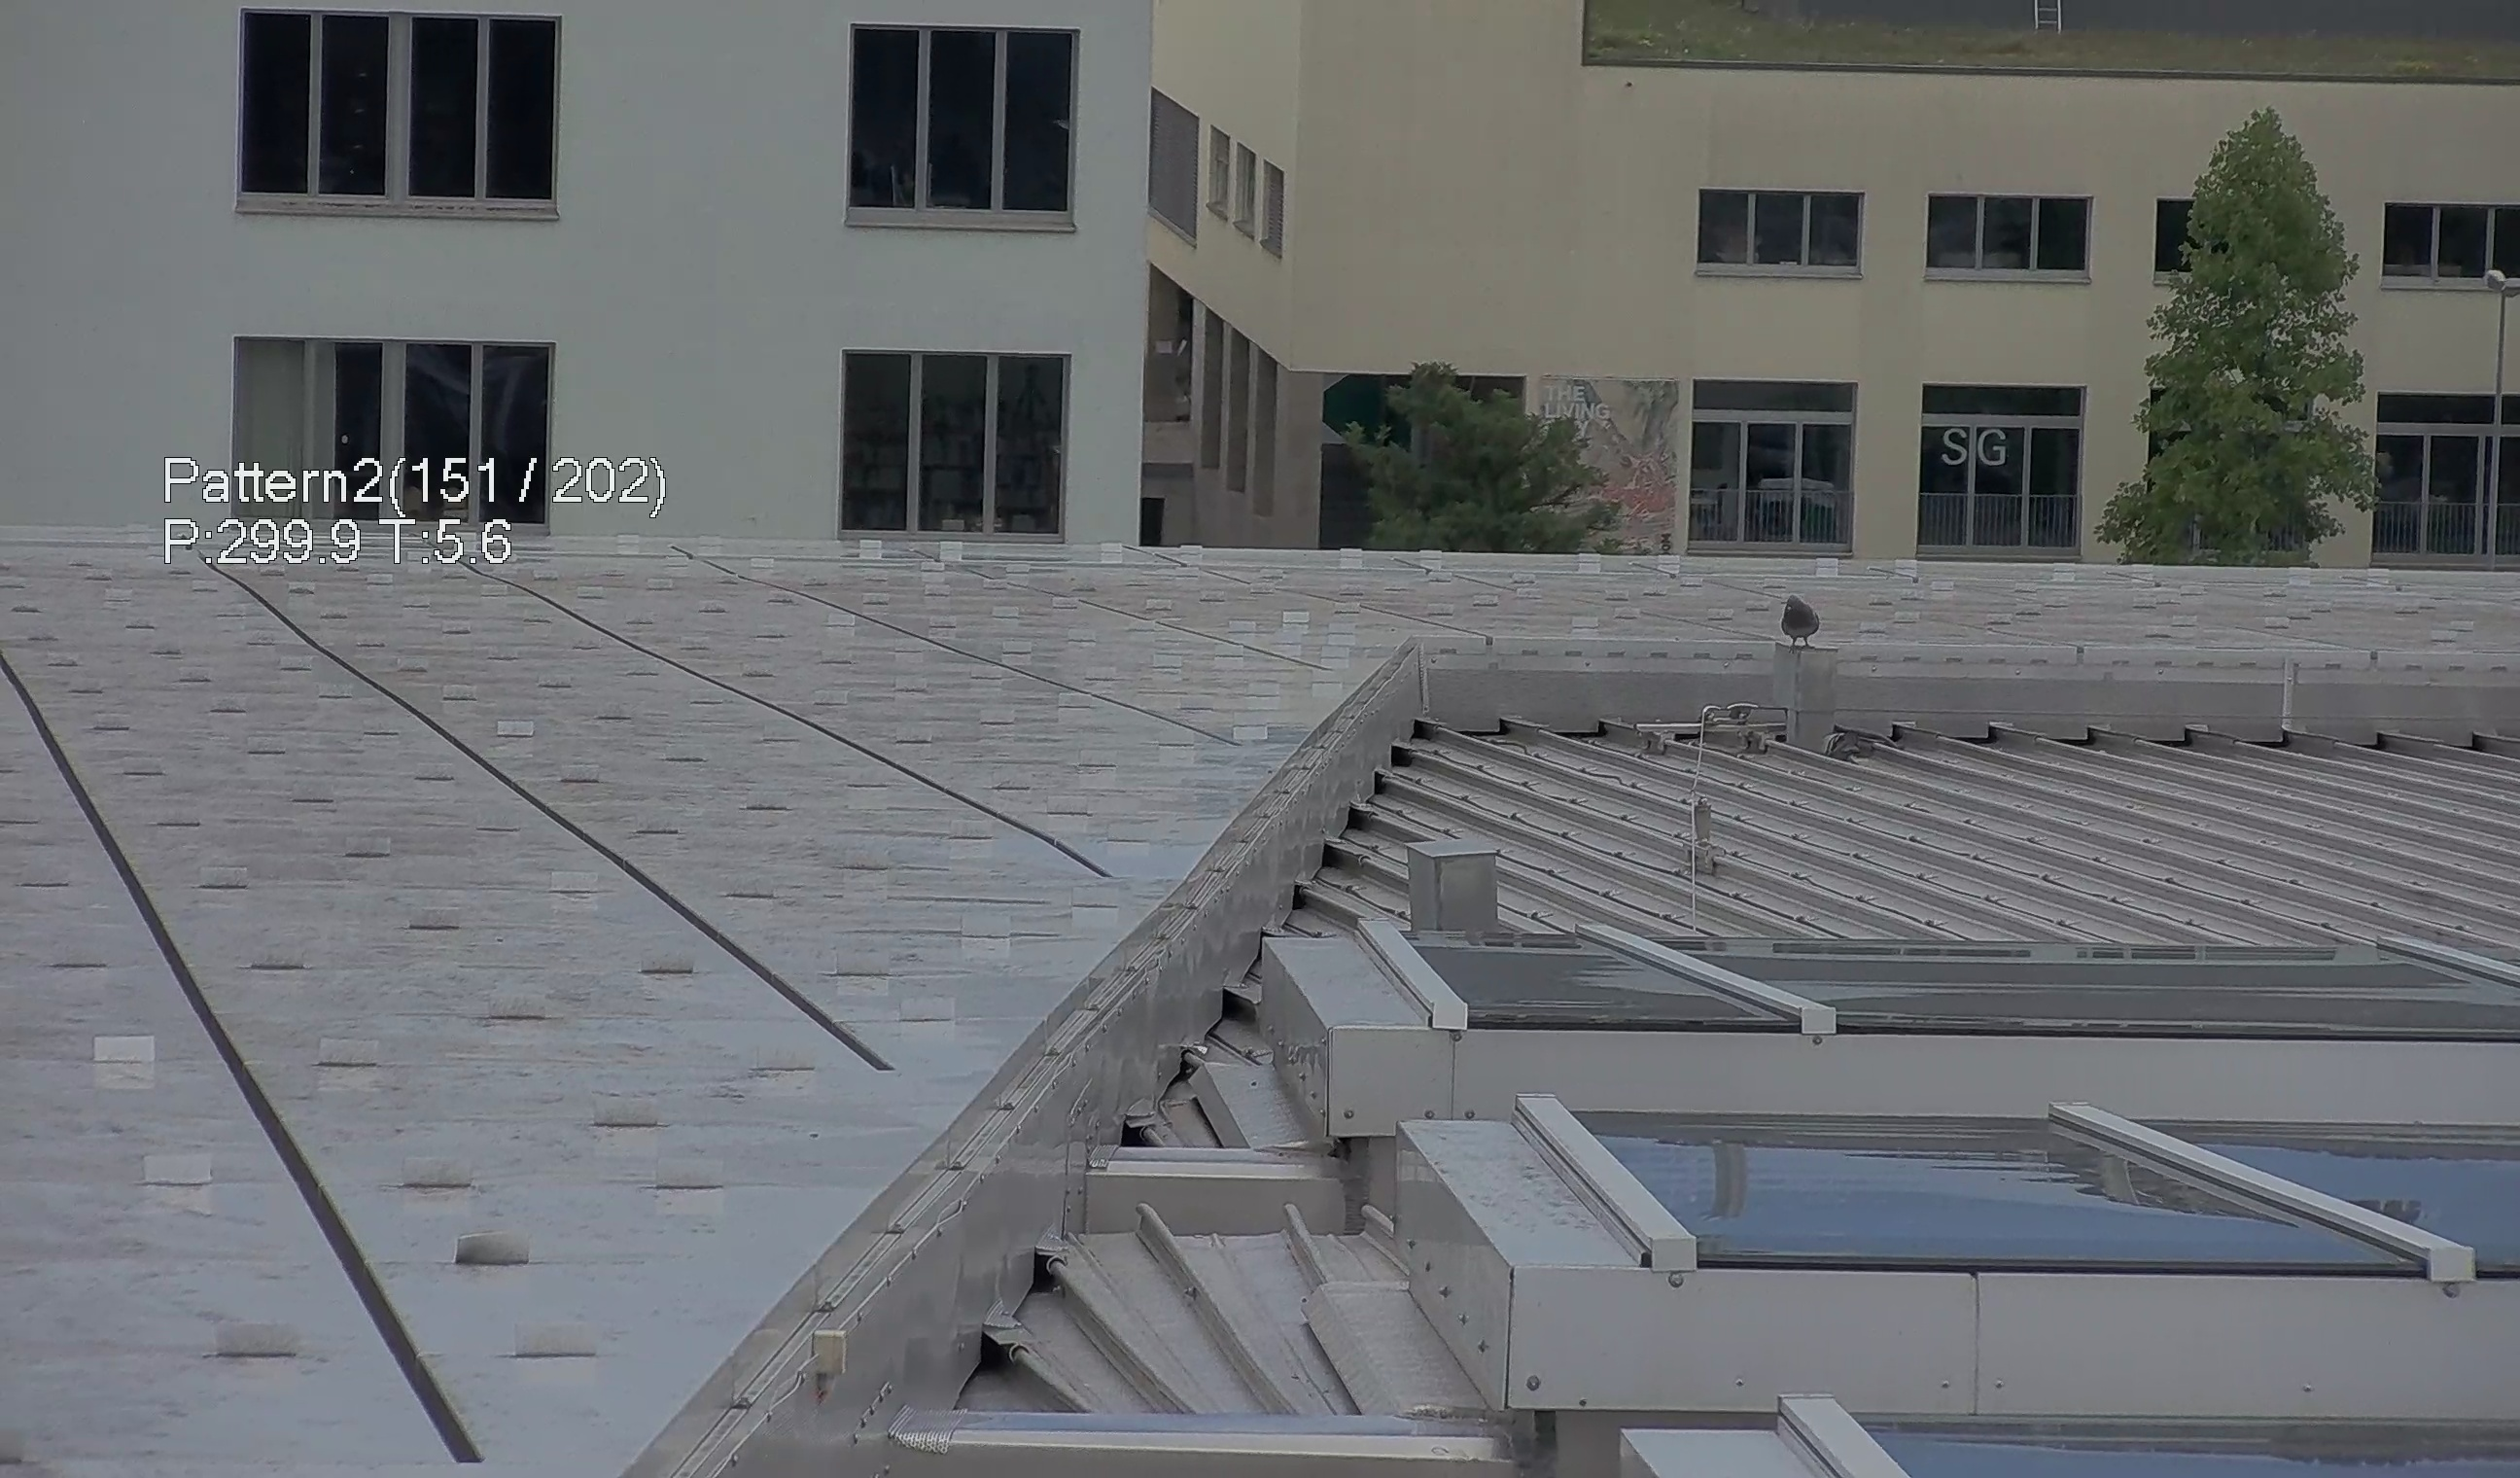Pigeon: (1778, 581, 1832, 651), (1818, 723, 1878, 779)
